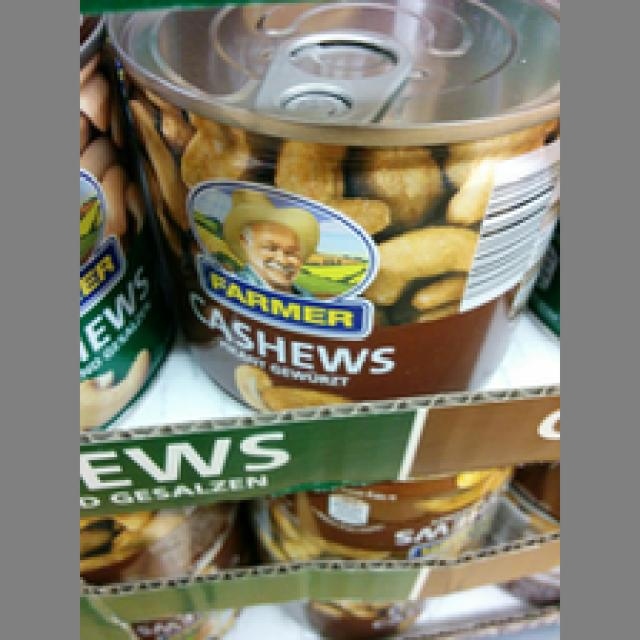groceries: (99, 0, 554, 411)
